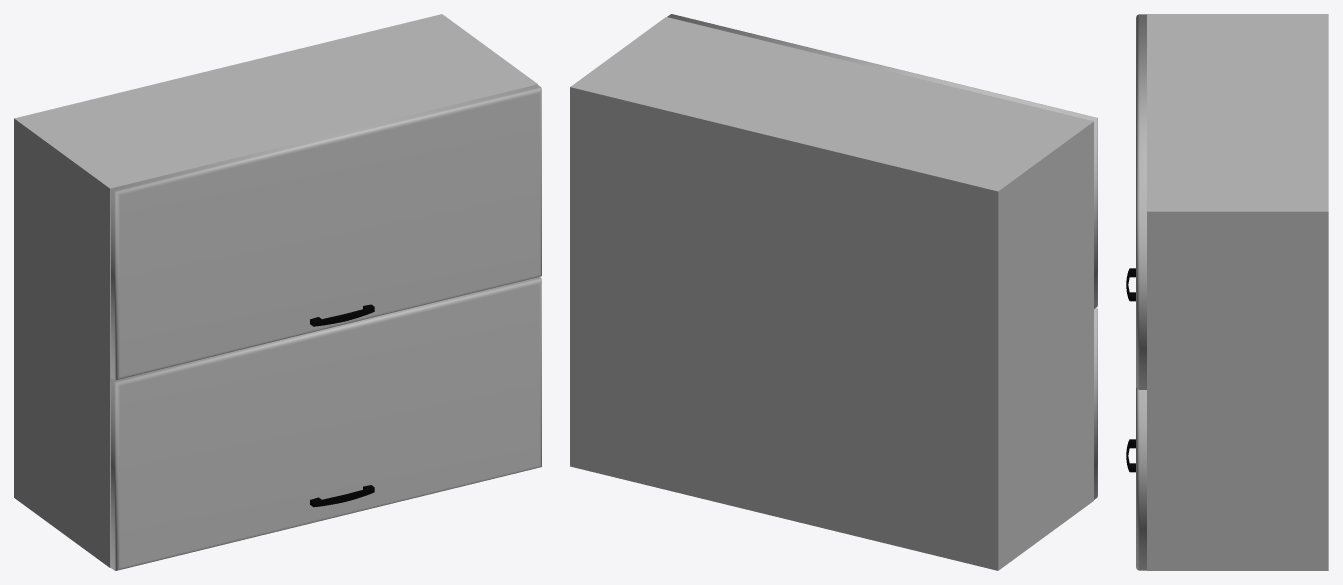
3 views of the same model, side by side, from view 1: azimuth 30°, elevation 25°; view 2: azimuth 150°, elevation 25°; view 3: azimuth 270°, elevation 25° (orthographic). The views are drawn at different scales.
Visible parts, largest first — view 1: Box011, Box029, Box001; view 2: Box001, Box011, Box029; view 3: Box001, Box011, Box029.
Boxes of the visible parts, x1,y1,x2,y2 form: Box011: (111, 84, 541, 380); Box029: (111, 277, 541, 570); Box001: (14, 14, 537, 567); Box001: (570, 17, 1093, 570); Box011: (667, 14, 1097, 308); Box029: (1094, 308, 1097, 499); Box001: (1147, 14, 1328, 570); Box011: (1136, 14, 1146, 389); Box029: (1136, 387, 1146, 570).
Bounding box in the file's own units: 0.85 × 0.72 × 0.3671.
Materials: 2 (1 with a texture image).
